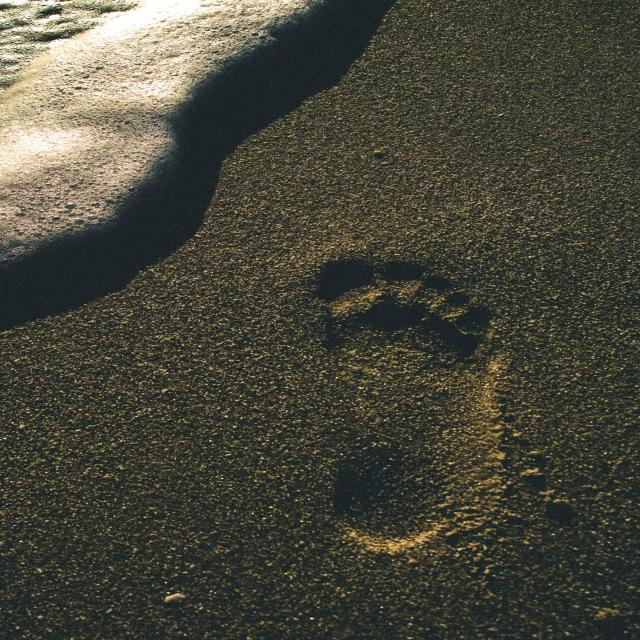human_footprint: (290, 212, 553, 602)
